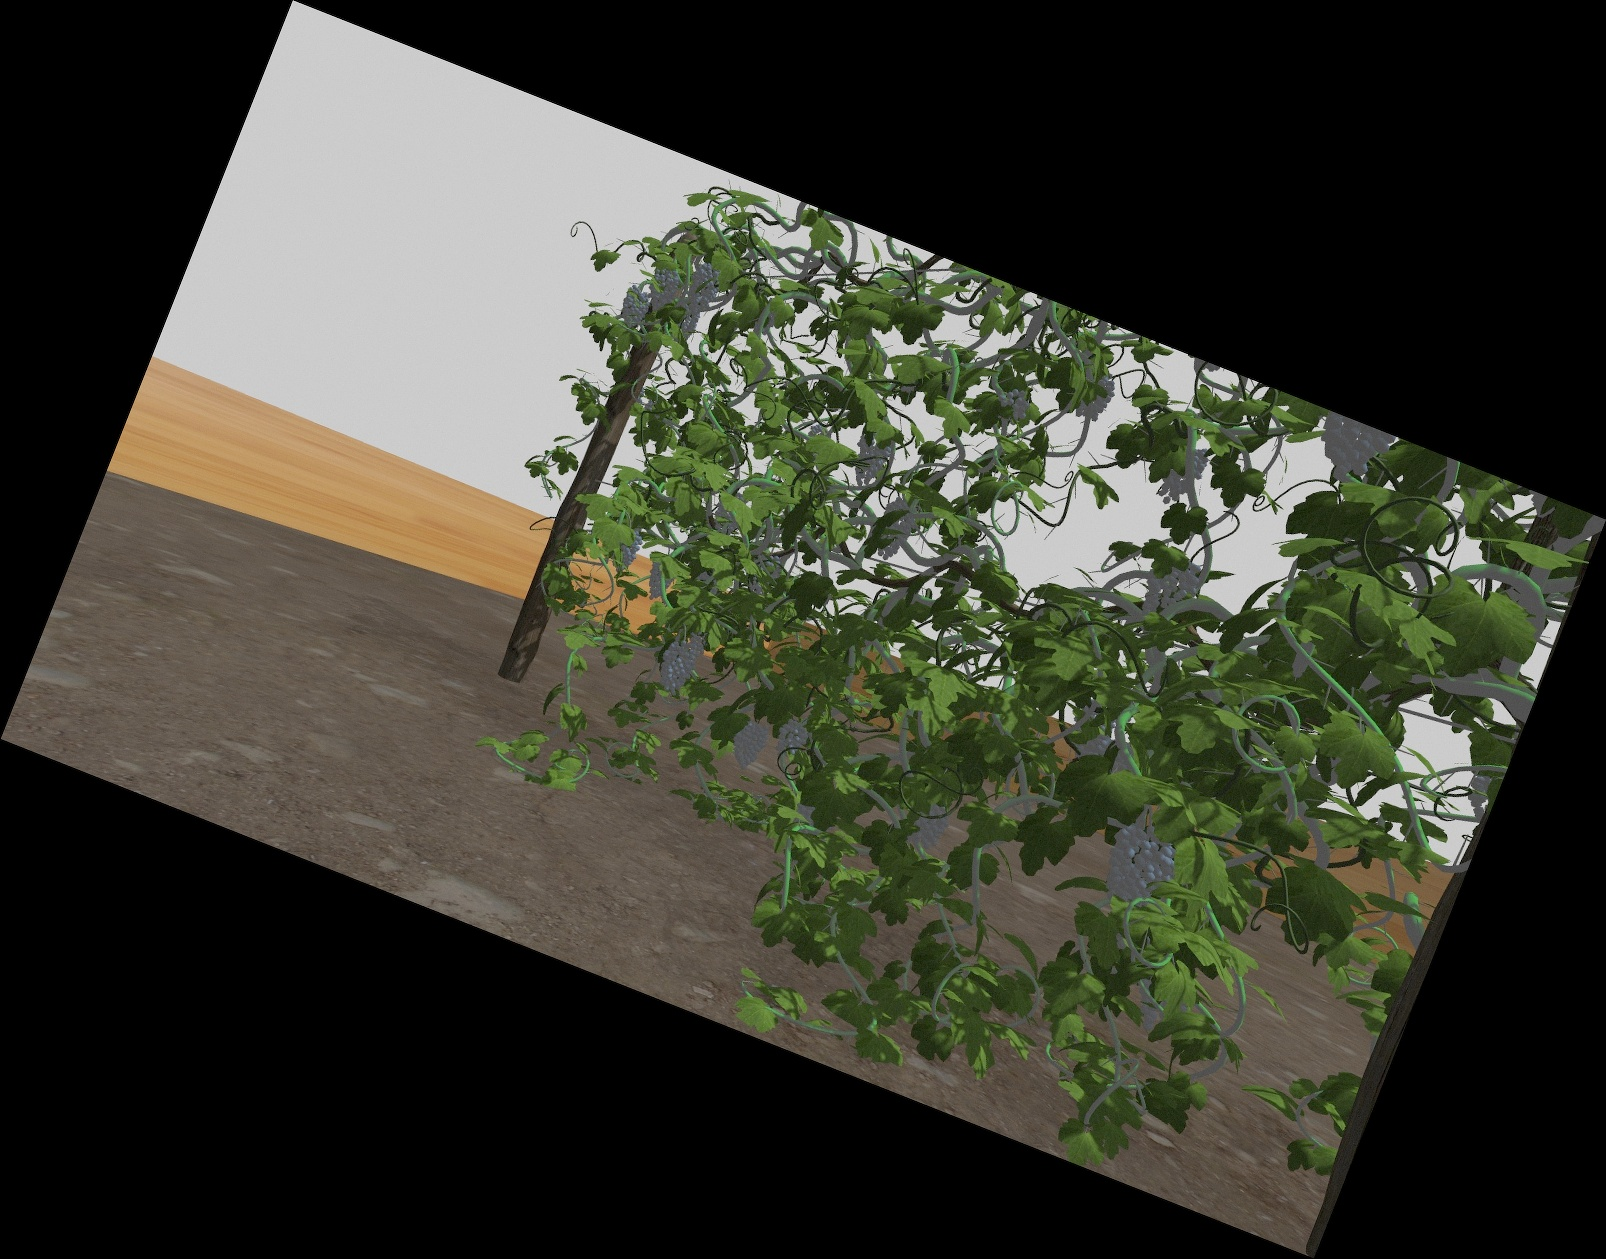grape: (1107, 826, 1172, 902), (1317, 426, 1384, 480), (1145, 557, 1194, 616), (664, 631, 697, 693), (879, 502, 914, 560), (853, 435, 888, 486), (909, 805, 948, 846), (733, 719, 765, 768), (688, 263, 717, 311), (649, 265, 677, 311), (777, 718, 808, 756), (647, 558, 673, 600), (622, 287, 648, 327), (617, 530, 640, 572), (999, 388, 1030, 418), (680, 310, 697, 341)
